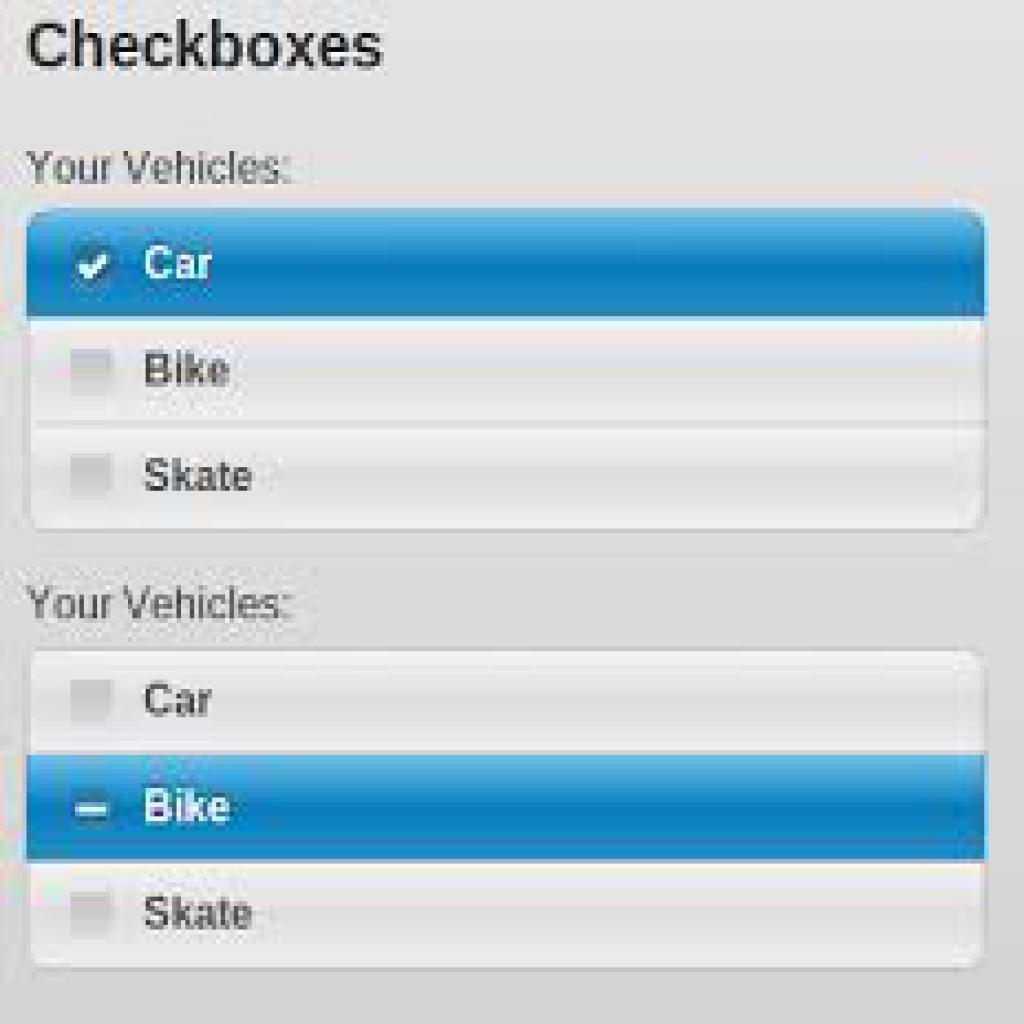checkbox: (61, 231, 126, 303), (59, 779, 121, 841), (64, 676, 117, 727), (68, 891, 114, 941), (69, 351, 115, 400), (70, 453, 117, 499)
